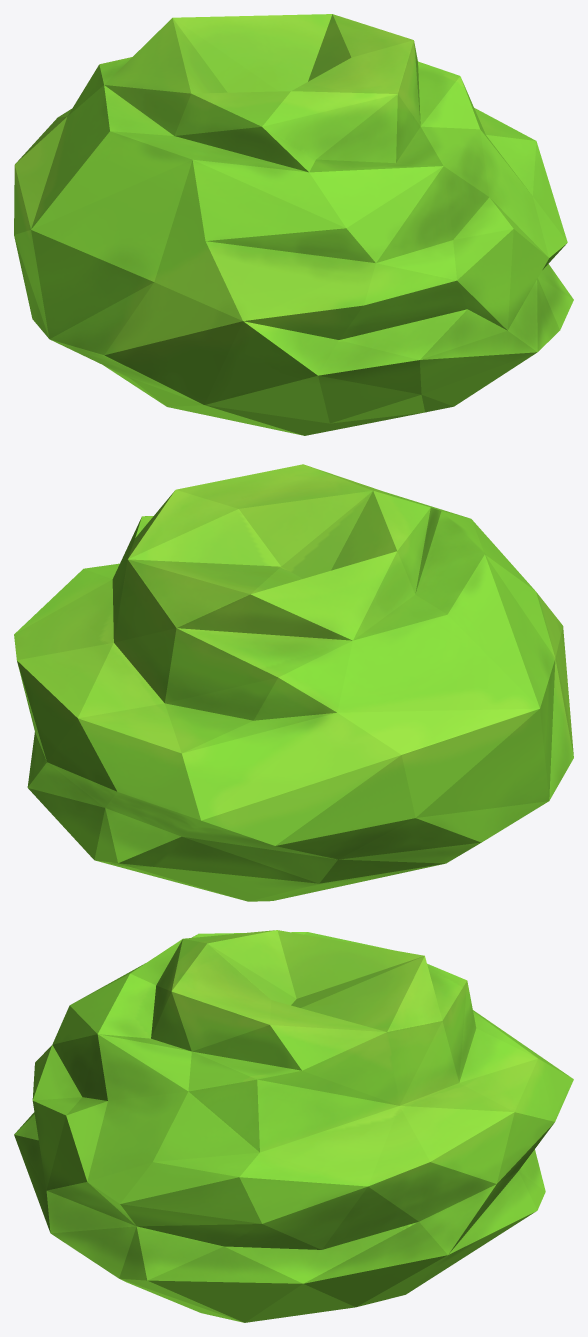
Rendered from Plant_03.fbx.
3 renders of one model, top to bottom at view 1: azimuth 30°, elevation 25°; view 2: azimuth 150°, elevation 25°; view 3: azimuth 270°, elevation 25°, orthographic. The views are drawn at different scales.
Visible parts, largest first — view 1: Plant_03; view 2: Plant_03; view 3: Plant_03.
Boxes of the visible parts, <box> form: Plant_03: <box>14,14,573,435</box>; Plant_03: <box>14,464,573,901</box>; Plant_03: <box>14,930,573,1322</box>.
Size of the model in its own units: 291 by 204 by 319.
Materials: 1 (1 with a texture image).
